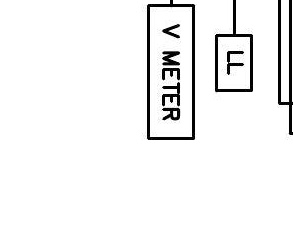LL: (214, 33, 254, 93)
v_m_digital: (146, 3, 196, 141)
